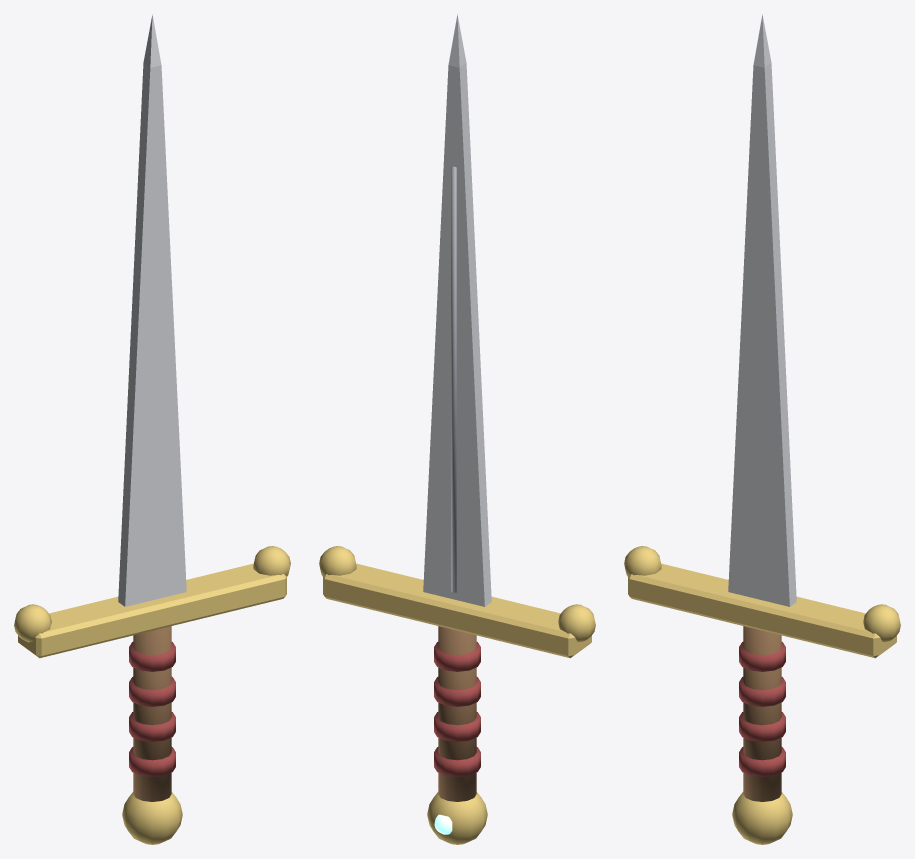
The model's file is Sword.glb.
The picture shows the model from 3 angles, left to right: view 1: azimuth 30°, elevation 25°; view 2: azimuth 150°, elevation 25°; view 3: azimuth 330°, elevation 25°; orthographic projection.
Visible parts, largest first — view 1: Blade, Guard, Grip, Pommel, QuillonL, QuillonR, WrapRing, WrapRing.001, WrapRing.002, WrapRing.003; view 2: Blade, Guard, Grip, Fuller, Pommel, QuillonL, QuillonR, WrapRing, WrapRing.001, WrapRing.002, WrapRing.003; view 3: Blade, Guard, Grip, Pommel, QuillonR, QuillonL, WrapRing, WrapRing.001, WrapRing.002, WrapRing.003.
Boxes of the visible parts, x1=… form: Blade: x1=118, y1=14, x2=186, y2=606; Guard: x1=18, y1=563, x2=286, y2=658; Grip: x1=133, y1=626, x2=171, y2=801; Pommel: x1=122, y1=792, x2=182, y2=844; QuillonL: x1=14, y1=604, x2=51, y2=642; QuillonR: x1=253, y1=546, x2=290, y2=576; WrapRing: x1=129, y1=747, x2=175, y2=776; WrapRing.001: x1=129, y1=712, x2=175, y2=741; WrapRing.002: x1=129, y1=677, x2=175, y2=706; WrapRing.003: x1=129, y1=642, x2=175, y2=671; Blade: x1=423, y1=14, x2=491, y2=606; Guard: x1=323, y1=563, x2=591, y2=658; Grip: x1=438, y1=626, x2=476, y2=801; Fuller: x1=451, y1=166, x2=456, y2=592; Pommel: x1=427, y1=792, x2=487, y2=844; QuillonL: x1=558, y1=604, x2=595, y2=642; QuillonR: x1=319, y1=546, x2=356, y2=576; WrapRing: x1=434, y1=747, x2=480, y2=776; WrapRing.001: x1=434, y1=712, x2=480, y2=741; WrapRing.002: x1=434, y1=677, x2=480, y2=706; WrapRing.003: x1=434, y1=642, x2=480, y2=671; Blade: x1=728, y1=14, x2=796, y2=606; Guard: x1=628, y1=563, x2=896, y2=658; Grip: x1=743, y1=626, x2=781, y2=801; Pommel: x1=732, y1=792, x2=792, y2=844; QuillonR: x1=863, y1=604, x2=900, y2=642; QuillonL: x1=624, y1=546, x2=661, y2=576; WrapRing: x1=739, y1=747, x2=785, y2=776; WrapRing.001: x1=739, y1=712, x2=785, y2=741; WrapRing.002: x1=739, y1=677, x2=785, y2=706; WrapRing.003: x1=739, y1=642, x2=785, y2=671.
Bounding box in the file's own units: 1.13 × 3.31 × 0.235.
